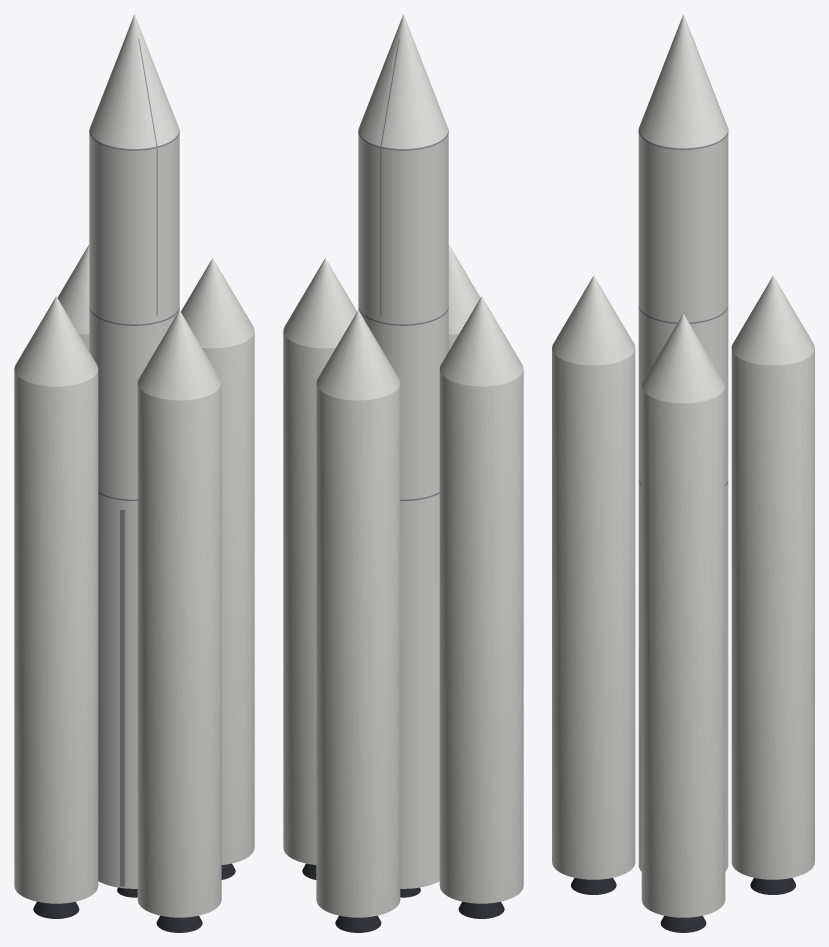
Rendered from gravity1.glb.
3 renders of one model, left to right at view 1: azimuth 30°, elevation 25°; view 2: azimuth 150°, elevation 25°; view 3: azimuth 270°, elevation 25°, orthographic.
Parts seen in each view (by area): view 1: gravity1; view 2: gravity1; view 3: gravity1.
Boxes of the visible parts, left/top/right/bottom form: gravity1: left=14, top=14, right=254, bottom=932; gravity1: left=283, top=14, right=523, bottom=932; gravity1: left=552, top=14, right=814, bottom=932.
Bounding box in the file's own units: 8.2 × 30 × 8.2.
1 material, 1 textured.
